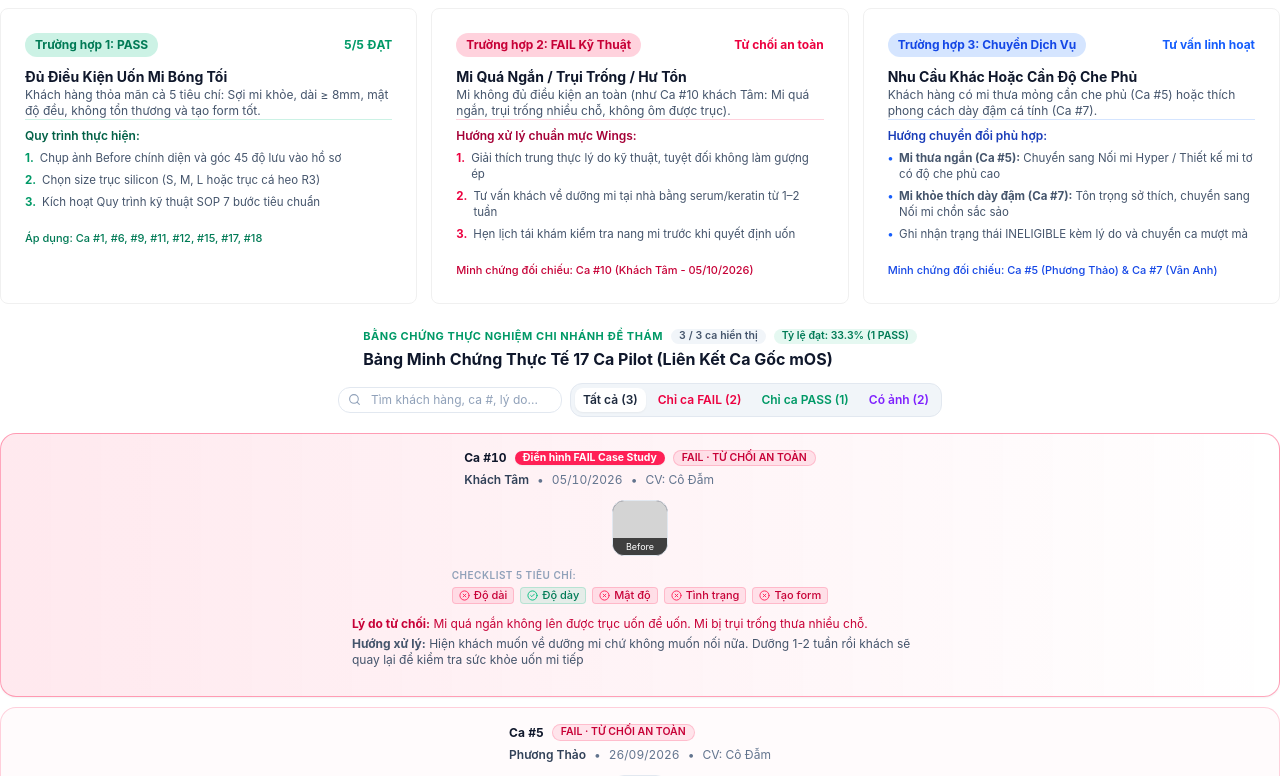
PilotCriteriaSopDetail › filters evidence cases by ALL, FAIL, PASS, and HAS_PHOTO
The image size is (1280, 776).
Click the button "Chỉ ca FAIL (2)" at (700, 400), box [650, 388, 750, 412]
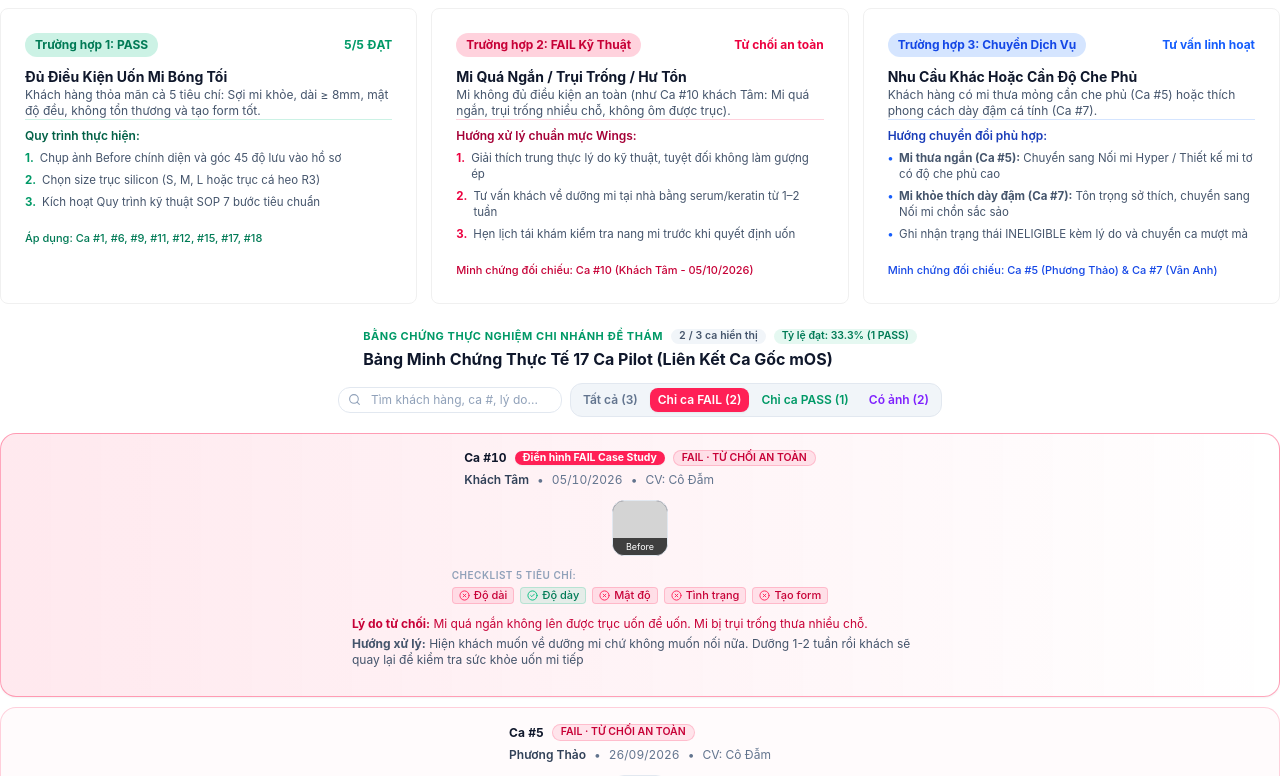
Expected: the text "Khách Tâm" is shown, [464, 472, 529, 488]
Expected: the text "Phương Thảo" is shown, [509, 747, 586, 763]
Click the button "Chỉ ca PASS (1)" at (805, 400), box [753, 388, 857, 412]
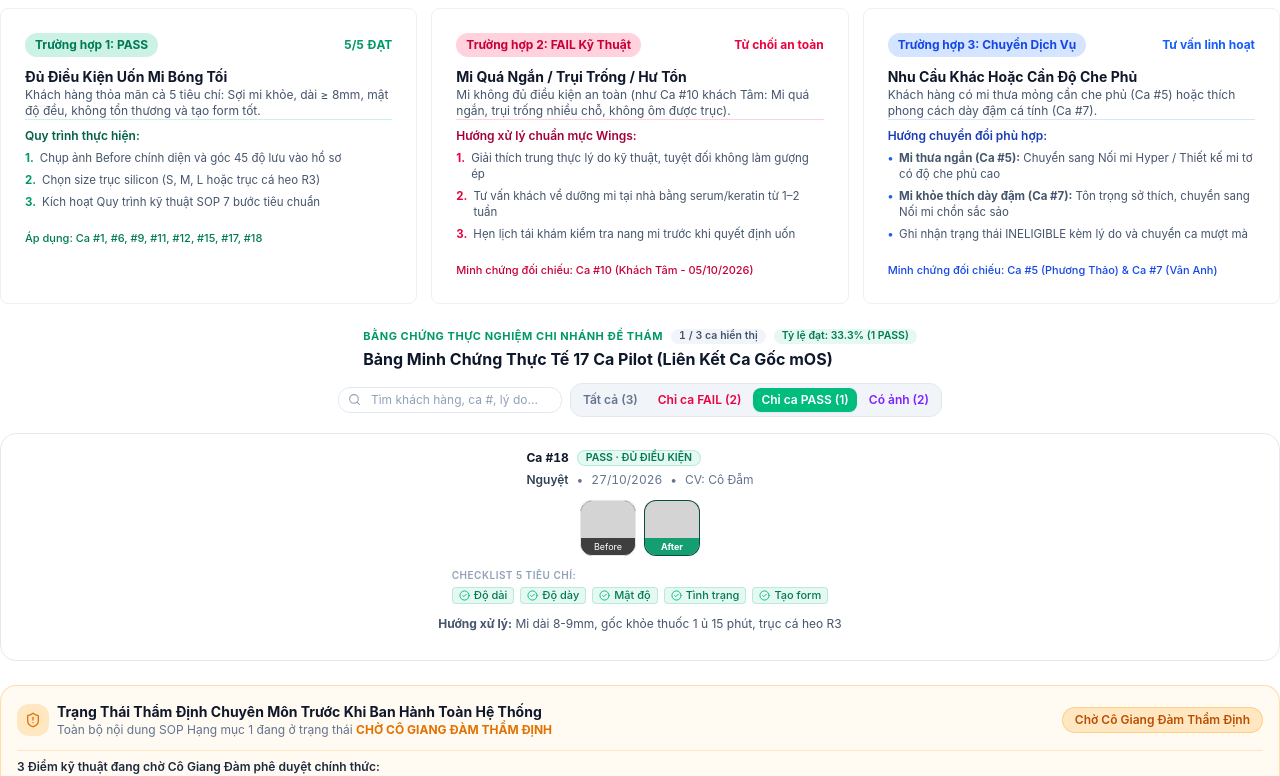
Now the text "Nguyệt" is shown, box [526, 472, 569, 488]
Click the button "Có ảnh (2)" at (899, 400), box [861, 388, 937, 412]
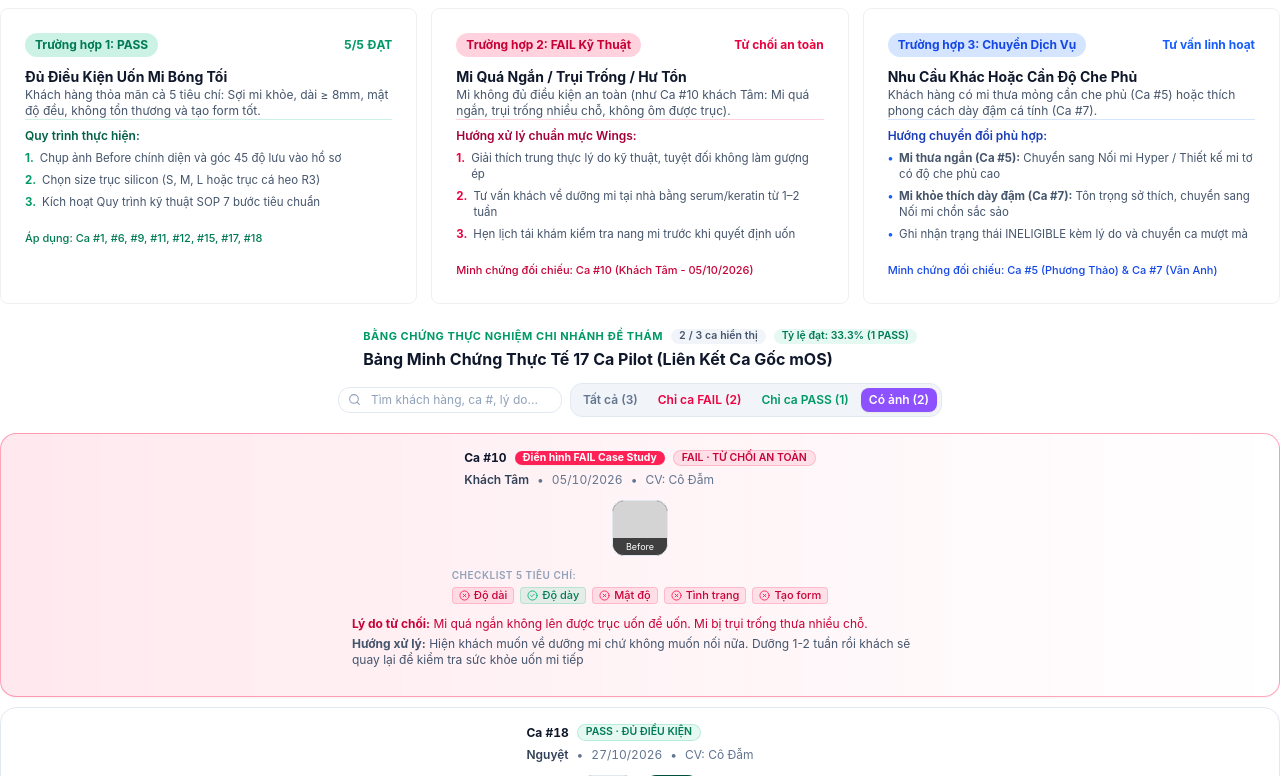
Now the text "Nguyệt" is shown, box [526, 747, 569, 763]
Now the text "Khách Tâm" is shown, box [464, 472, 529, 488]
